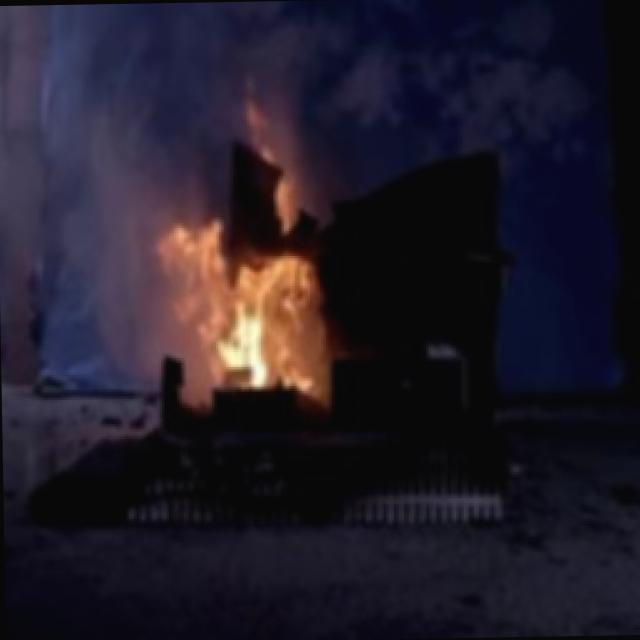fire: (162, 184, 332, 419)
